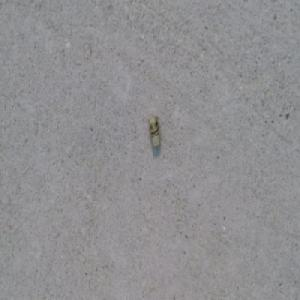BoltNutSet: (147, 114, 162, 150)
